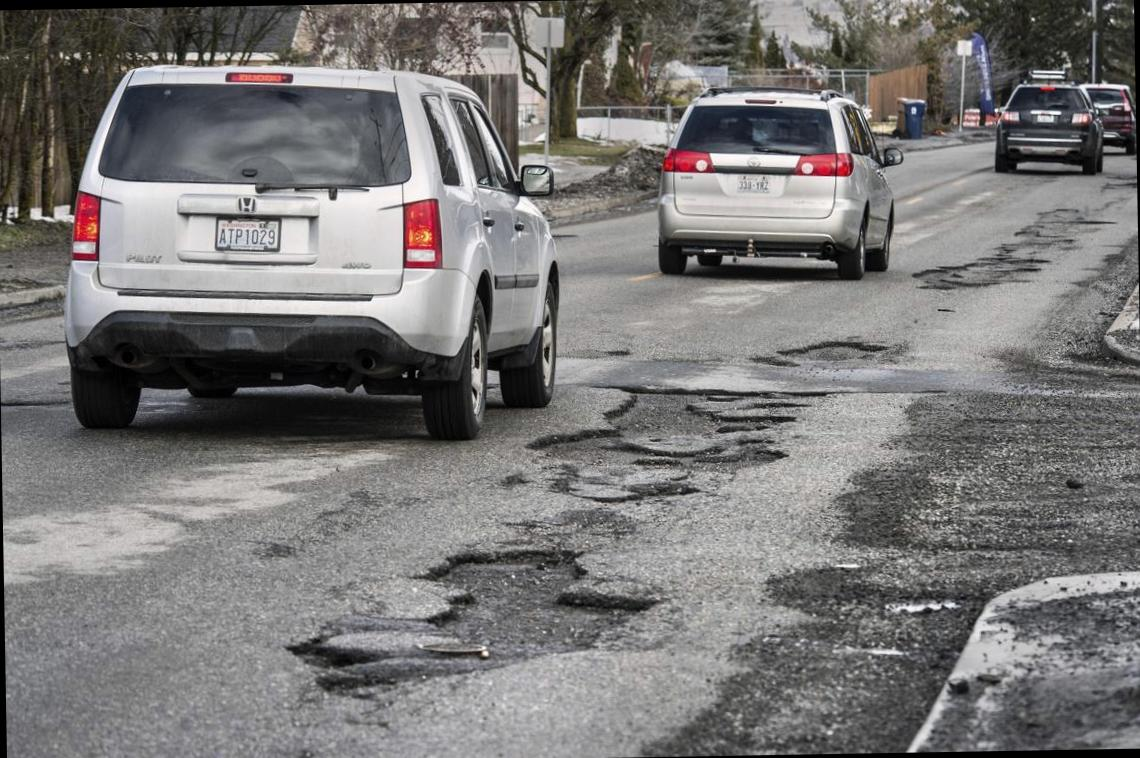pothole: (259, 316, 914, 718), (904, 184, 1123, 306)
